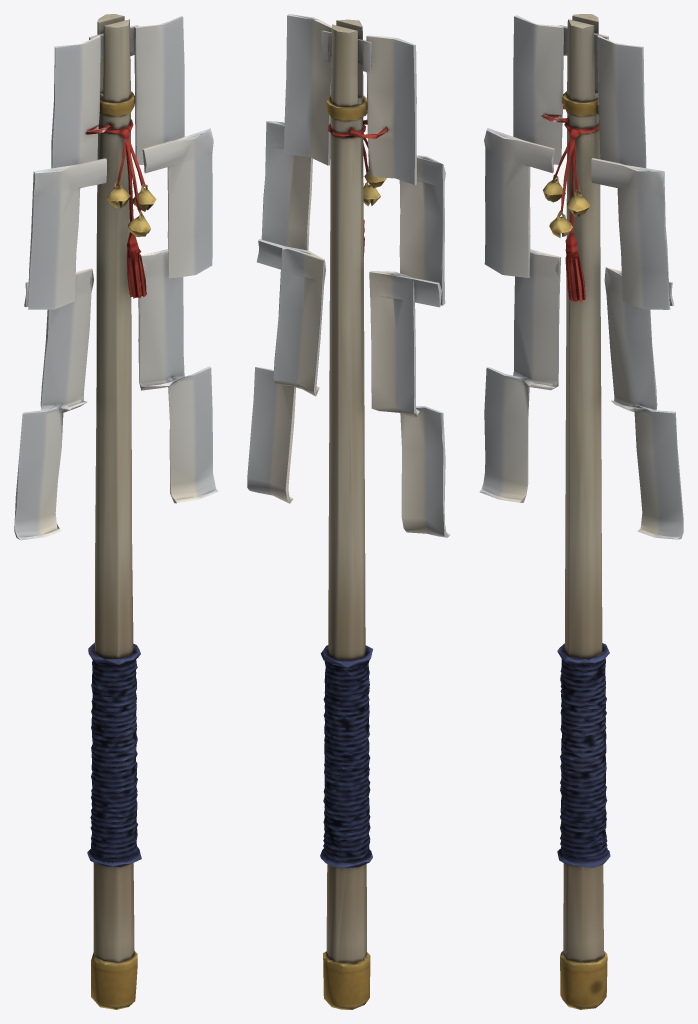
File: gohei.glb
The picture shows the model from 3 angles, left to right: view 1: azimuth 30°, elevation 25°; view 2: azimuth 150°, elevation 25°; view 3: azimuth 330°, elevation 25°; orthographic projection.
Visible parts, largest first — view 1: gohei_LOD0, shide_L_3_LOD0, shide_R_3_LOD0, shide_R_2_LOD0, shide_L_2_LOD0, shide_L_1_LOD0, shide_R_1_LOD0; view 2: gohei_LOD0, shide_R_3_LOD0, shide_L_3_LOD0, shide_R_1_LOD0, shide_L_1_LOD0, shide_R_2_LOD0, shide_L_2_LOD0; view 3: gohei_LOD0, shide_R_3_LOD0, shide_L_3_LOD0, shide_L_2_LOD0, shide_R_2_LOD0, shide_R_1_LOD0, shide_L_1_LOD0.
Part boxes in pixels (x1,y1,x2,y2): gohei_LOD0: [85, 14, 156, 1009]; shide_L_3_LOD0: [138, 249, 218, 503]; shide_R_3_LOD0: [14, 268, 93, 540]; shide_R_2_LOD0: [28, 158, 106, 309]; shide_L_2_LOD0: [142, 128, 213, 278]; shide_L_1_LOD0: [134, 16, 184, 164]; shide_R_1_LOD0: [51, 35, 100, 168]; gohei_LOD0: [320, 19, 387, 1009]; shide_R_3_LOD0: [369, 271, 450, 537]; shide_L_3_LOD0: [247, 239, 325, 503]; shide_R_1_LOD0: [366, 35, 416, 184]; shide_L_1_LOD0: [284, 14, 331, 165]; shide_R_2_LOD0: [399, 155, 445, 305]; shide_L_2_LOD0: [261, 121, 330, 250]; gohei_LOD0: [541, 14, 610, 1009]; shide_R_3_LOD0: [479, 249, 560, 502]; shide_L_3_LOD0: [604, 267, 683, 539]; shide_L_2_LOD0: [591, 158, 670, 309]; shide_R_2_LOD0: [484, 128, 554, 277]; shide_R_1_LOD0: [513, 15, 563, 164]; shide_L_1_LOD0: [597, 35, 646, 168].
Size of what is drawn, in the model's own units: 0.1075 by 0.5065 by 0.0404.
6 materials, 6 textured.
